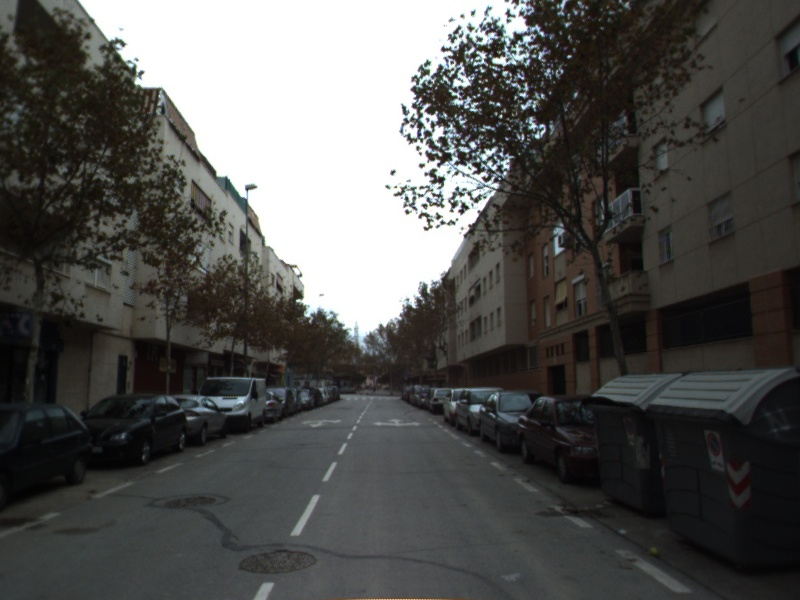STRAIGHT_LEFT_RIGHT: (371, 416, 424, 429)
